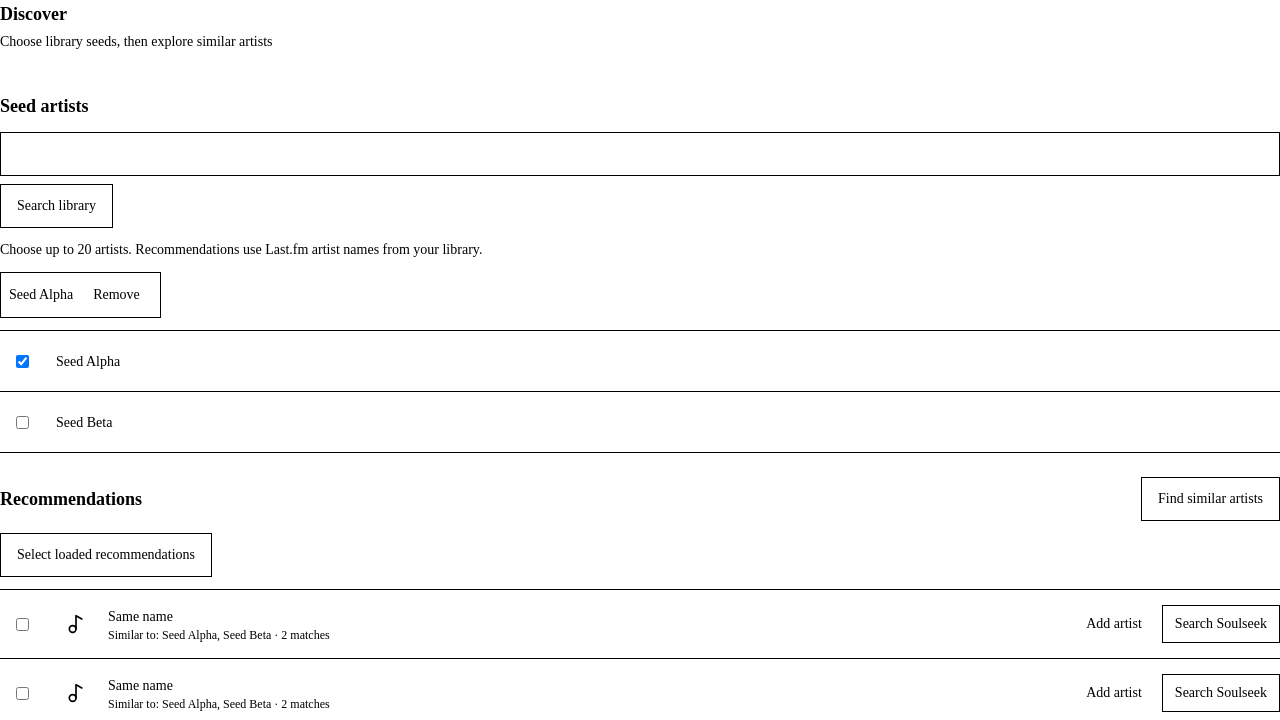
Scenario: discovery flow › announces a single confirmed membership with outcome=added honestly
What coordinates should you click on to do the following:
click the button with aria-label "Add artist Same name"
I would click on:
 (1114, 624)
Its box is [1074,605,1154,643].
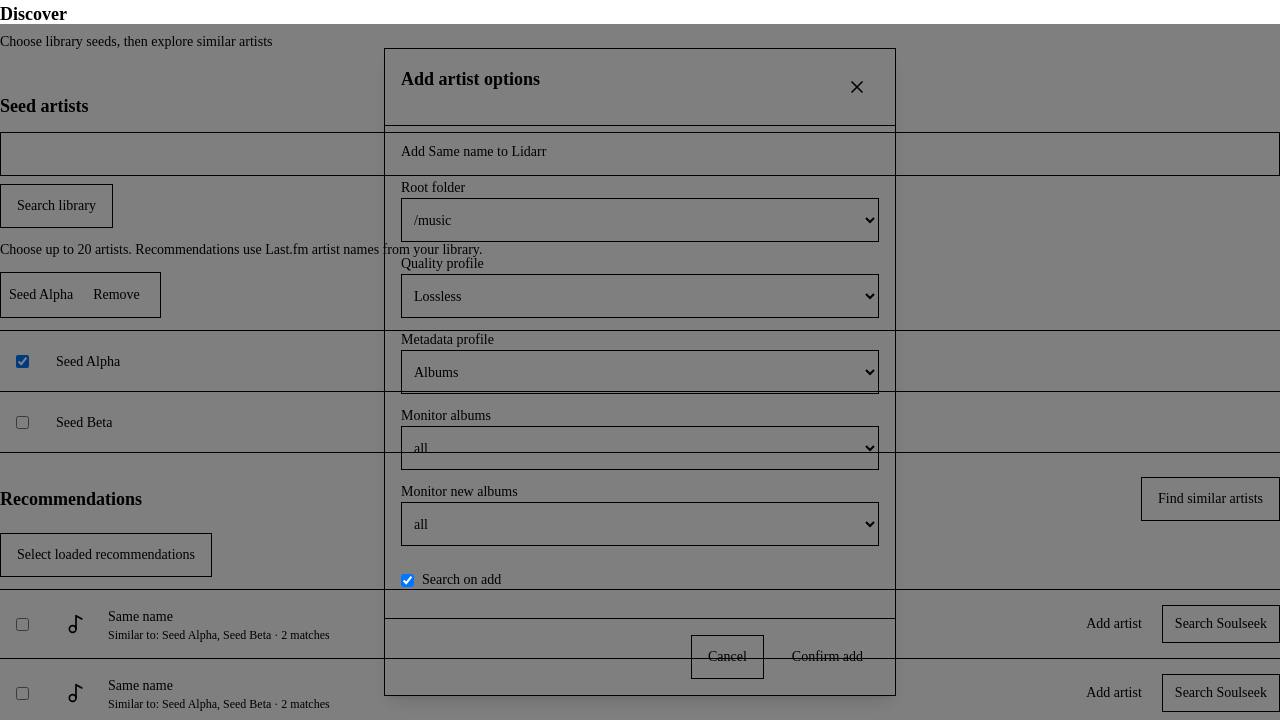
Expected: the button "Confirm add" is enabled
What coordinates should you click on to do the following:
click the button "Confirm add"
I would click on:
 (827, 657)
Its box is [776,635,879,679].
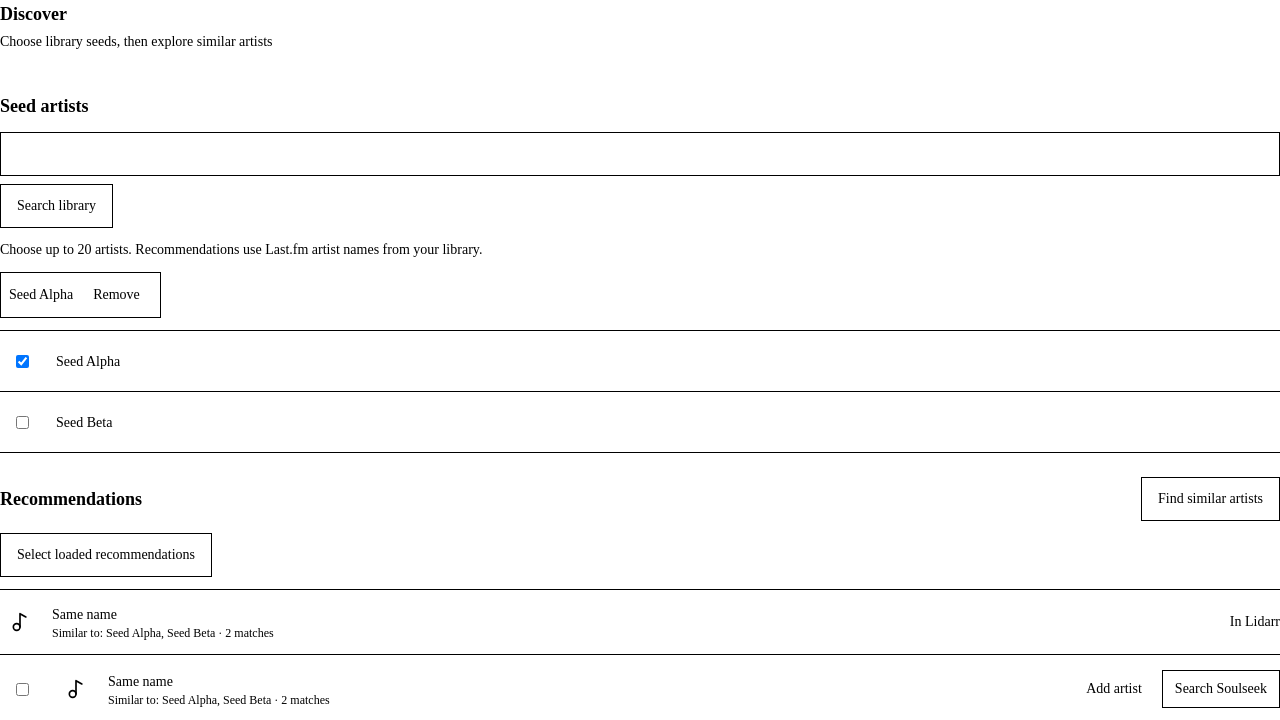
Expected: the text "In Lidarr" is shown, [1230,612,1279,632]
